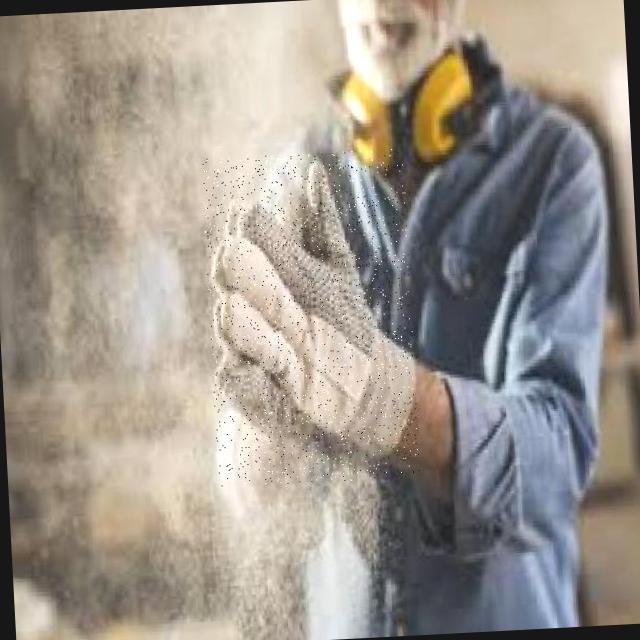gloves: (214, 147, 412, 484)
